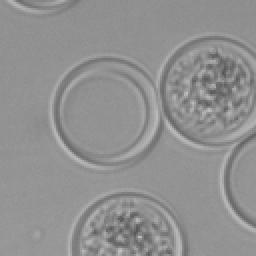picoshell: (50, 54, 160, 168), (158, 34, 254, 148), (66, 188, 186, 254), (218, 134, 254, 232), (6, 0, 76, 14)
